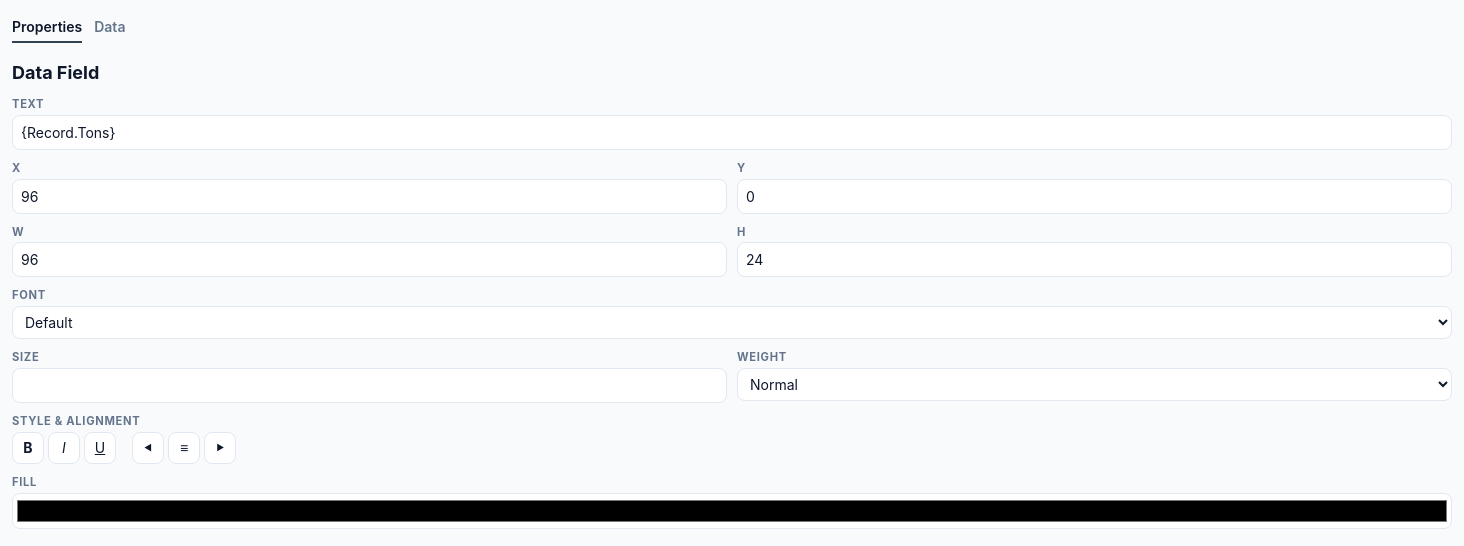
Test case: PropertiesPanel › shows the data binding on the Data tab
Step 1. Click the tab "Data" → (110, 28), box [94,12,125,43]
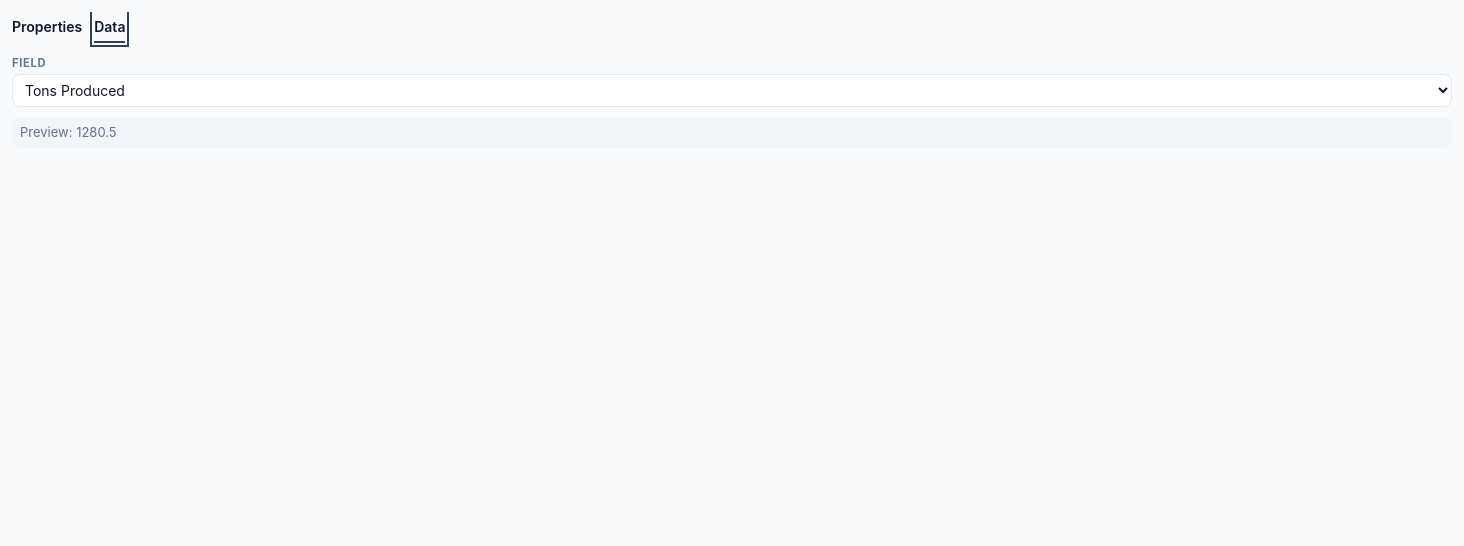
expect the dropdown labelled "Field" shows "Tons Produced": met, box [12,74,1452,107]
